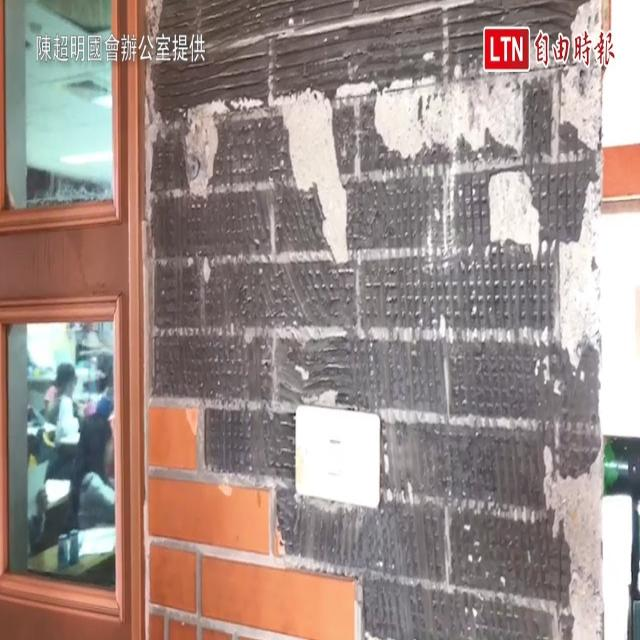tile: (145, 2, 600, 640)
